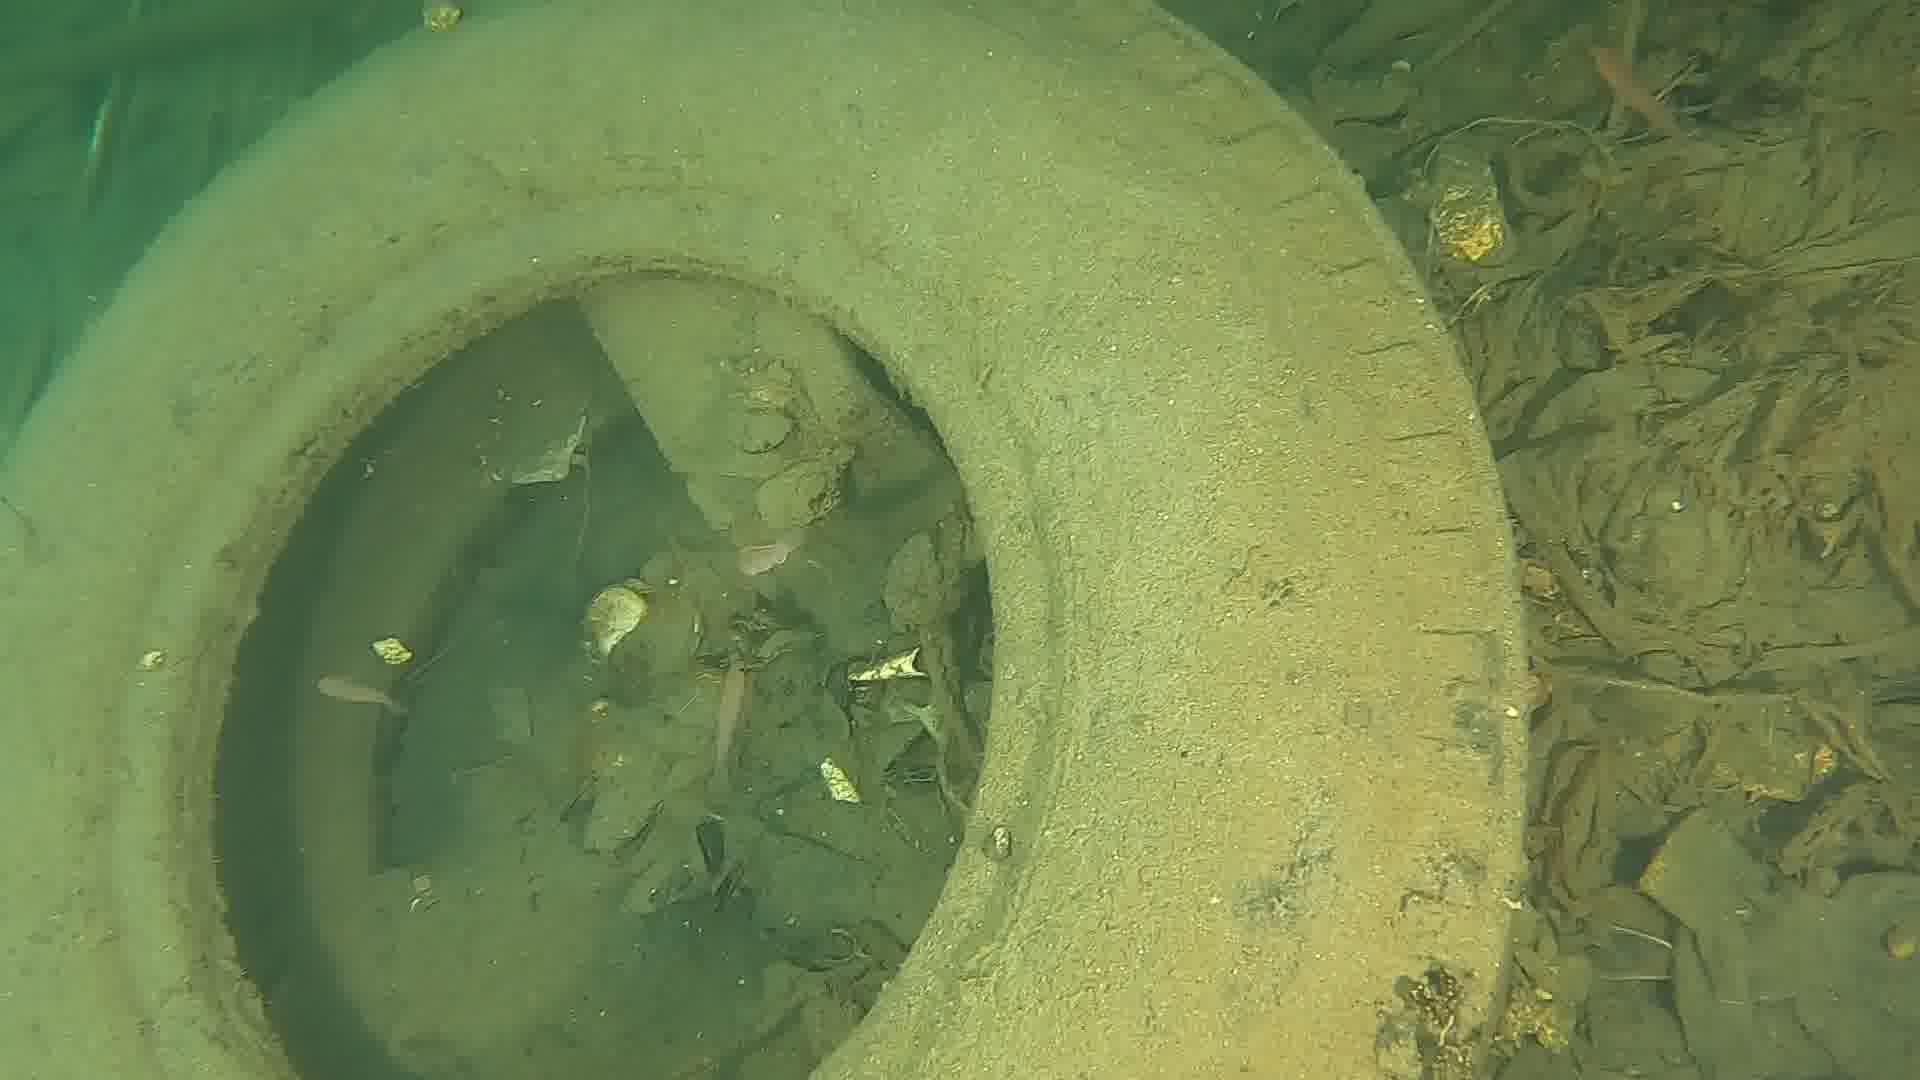tire: (0, 0, 1535, 1080)
